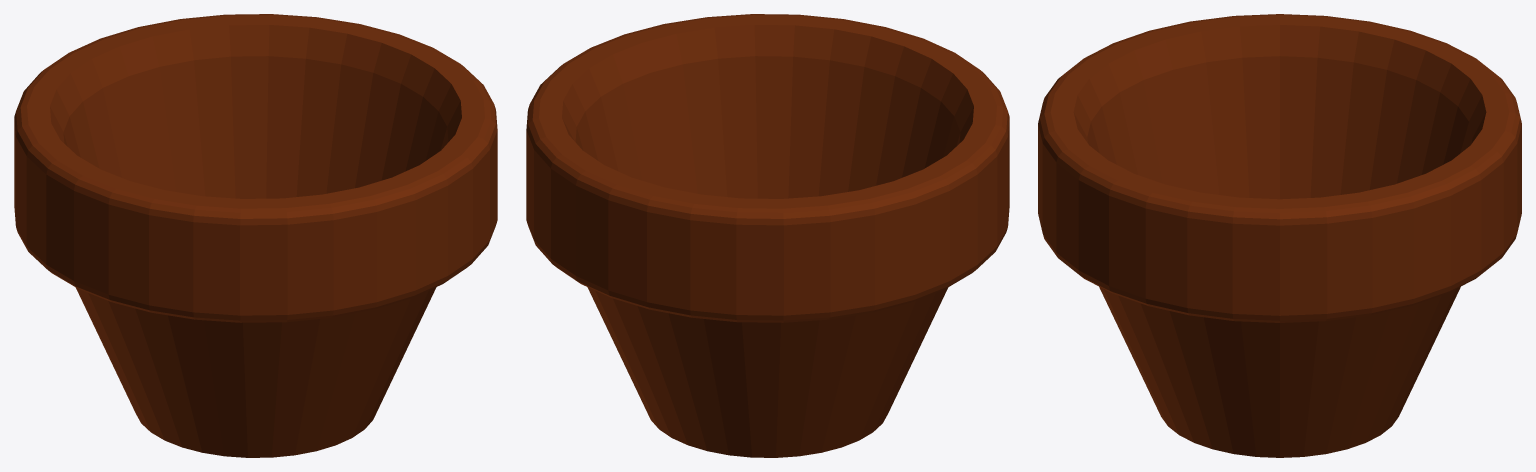
Rendered from flowerpot.glb.
The picture shows the model from 3 angles, left to right: view 1: azimuth 30°, elevation 25°; view 2: azimuth 150°, elevation 25°; view 3: azimuth 270°, elevation 25°; orthographic projection.
Visible parts, largest first — view 1: Flower Pot; view 2: Flower Pot; view 3: Flower Pot.
Boxes of the visible parts, x1,y1,x2,y2 form: Flower Pot: (14,14,497,457); Flower Pot: (526,14,1009,457); Flower Pot: (1038,14,1521,457).
Size of the model in its own units: 1.08 by 0.7232 by 1.08.
